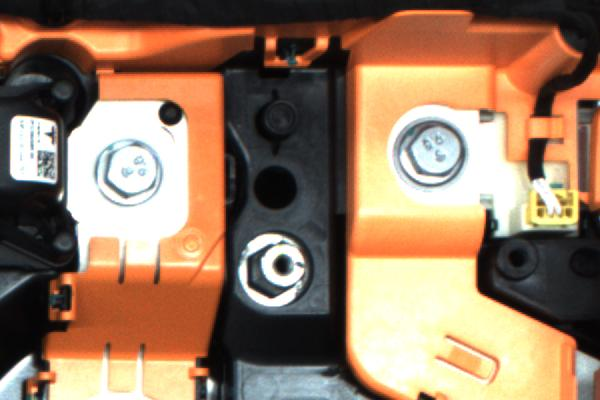nut_b: (89, 138, 173, 204), (398, 120, 473, 181)
